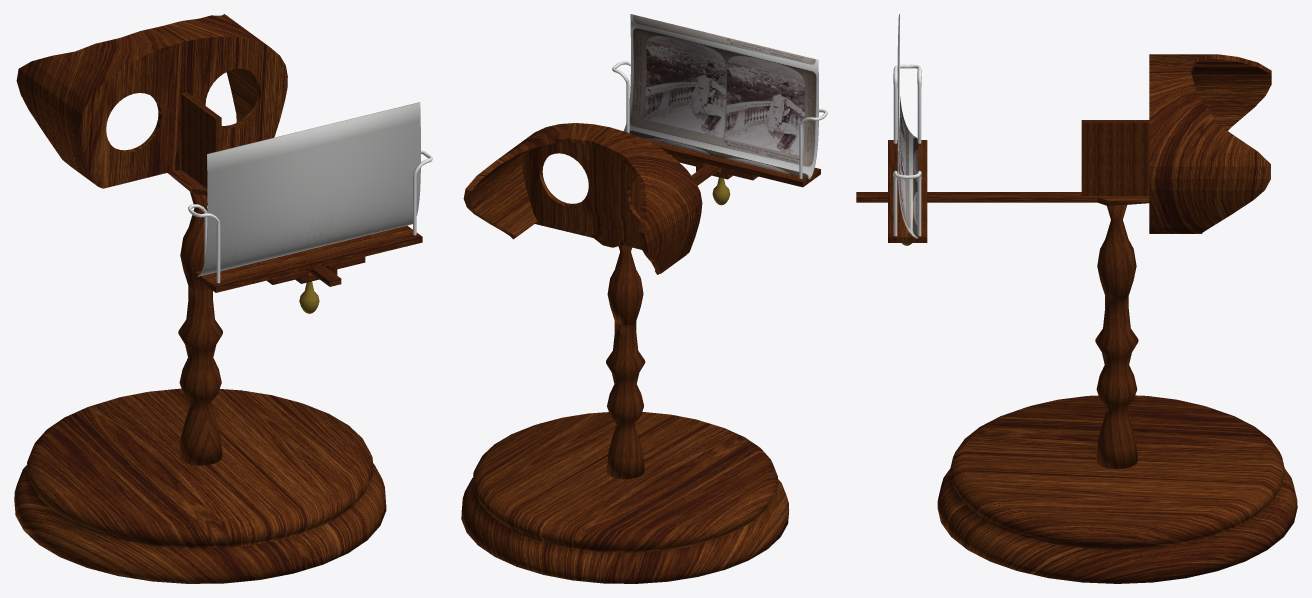
The model's file is Stereoscope.gltf.
3 views of the same model, side by side, from view 1: azimuth 30°, elevation 25°; view 2: azimuth 150°, elevation 25°; view 3: azimuth 270°, elevation 25° (orthographic). The views are drawn at different scales.
Parts seen in each view (by area): view 1: Cylinder.005, Cylinder, BezierCurve, Cylinder.004, Cube.003, Cube.002, Cube.001, Cylinder.007; view 2: Cylinder.005, BezierCurve, Cylinder, Cylinder.004, Cube.003; view 3: Cylinder.005, Cylinder, Cylinder.004, Cube.002, Cube.001, BezierCurve, Cube.003, Cylinder.007, Cylinder.006.
Boxes of the visible parts, left/top/right/bottom form: Cylinder.005: left=14, top=388, right=386, bottom=583; Cylinder: left=16, top=14, right=287, bottom=188; BezierCurve: left=198, top=102, right=420, bottom=276; Cylinder.004: left=178, top=192, right=222, bottom=465; Cube.003: left=195, top=225, right=422, bottom=292; Cube.002: left=181, top=92, right=221, bottom=188; Cube.001: left=168, top=169, right=341, bottom=286; Cylinder.007: left=188, top=204, right=220, bottom=283; Cylinder.005: left=461, top=412, right=789, bottom=583; BezierCurve: left=623, top=14, right=818, bottom=179; Cylinder: left=463, top=123, right=702, bottom=274; Cylinder.004: left=606, top=245, right=645, bottom=479; Cube.003: left=643, top=138, right=820, bottom=187; Cylinder.005: left=937, top=395, right=1297, bottom=583; Cylinder: left=1149, top=54, right=1271, bottom=233; Cylinder.004: left=1095, top=205, right=1138, bottom=469; Cube.002: left=1081, top=120, right=1149, bottom=195; Cube.001: left=856, top=192, right=1149, bottom=206; BezierCurve: left=897, top=14, right=917, bottom=238; Cube.003: left=888, top=140, right=927, bottom=242; Cylinder.007: left=893, top=64, right=921, bottom=143; Cylinder.006: left=893, top=170, right=921, bottom=236.
Size of the model in its own units: 7.12 by 9.68 by 8.72.
3 materials, 2 textured.
